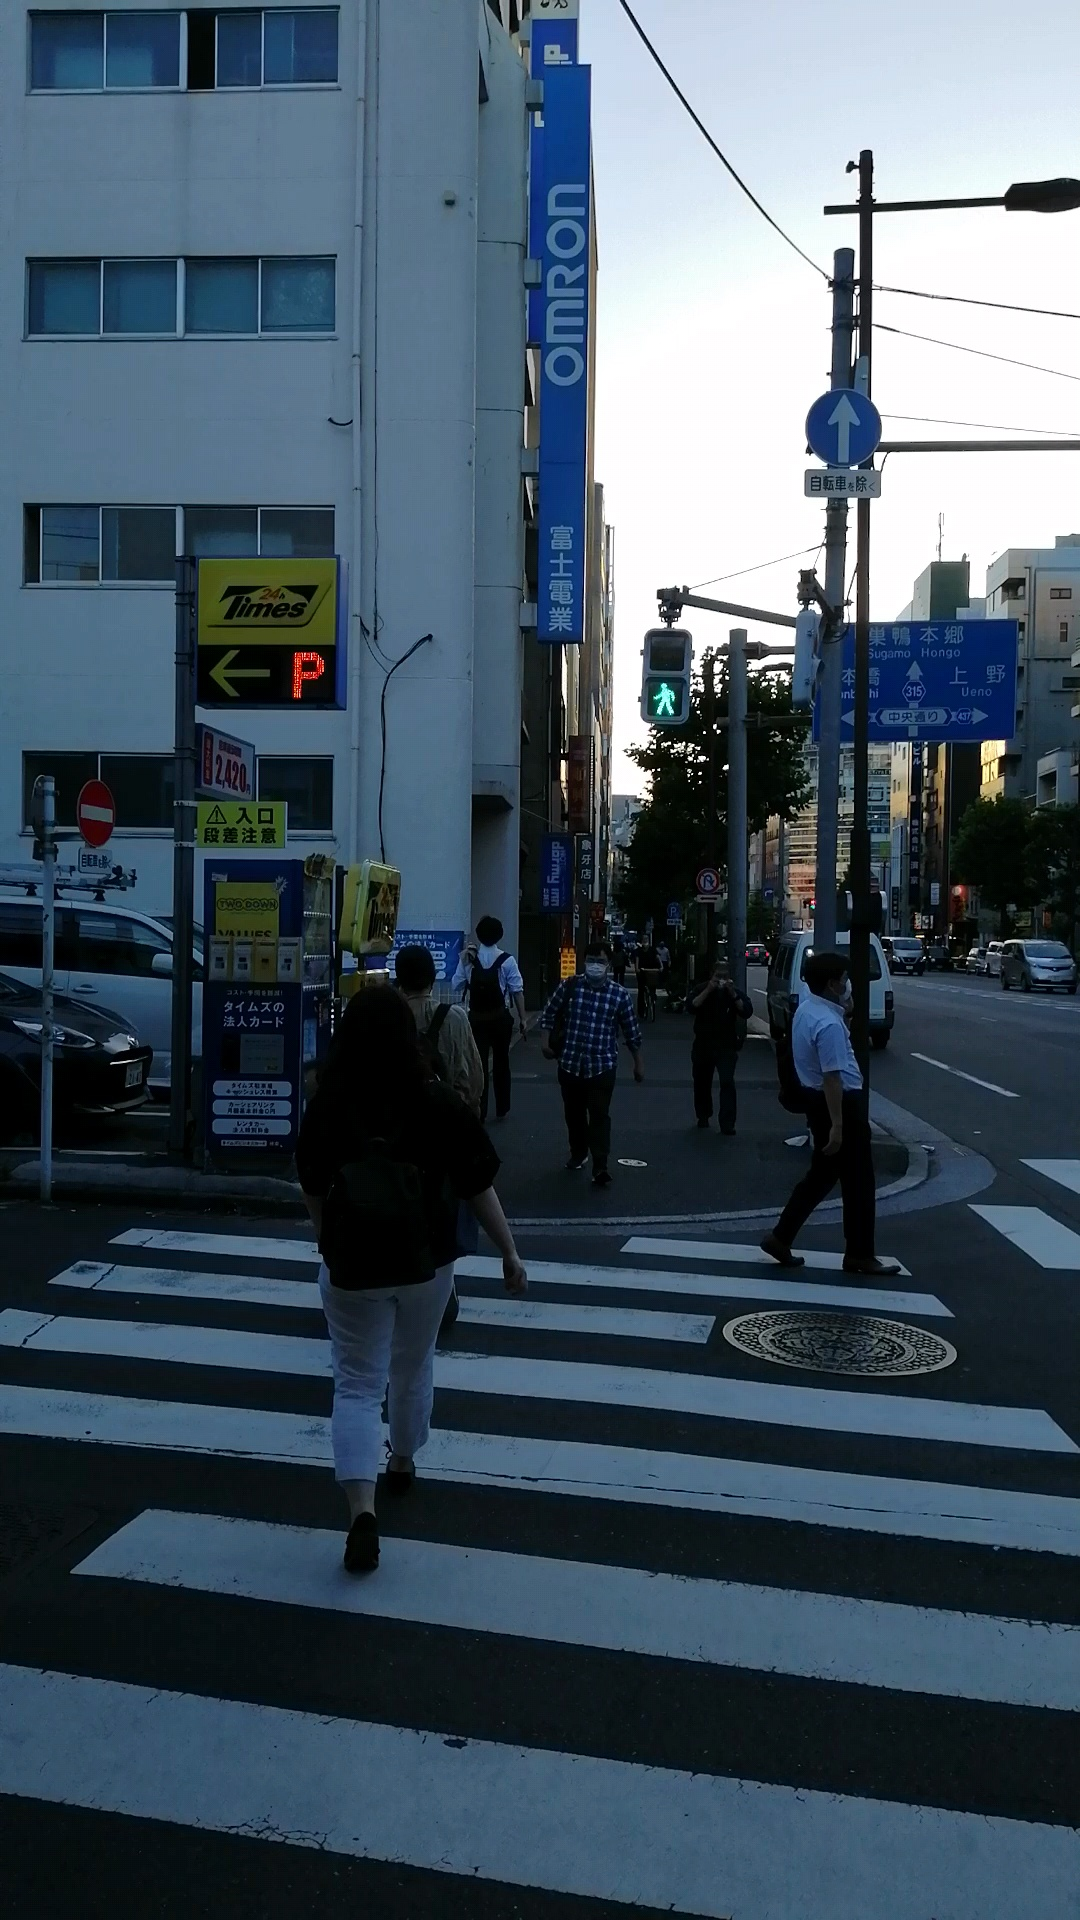green: (644, 624, 691, 724)
